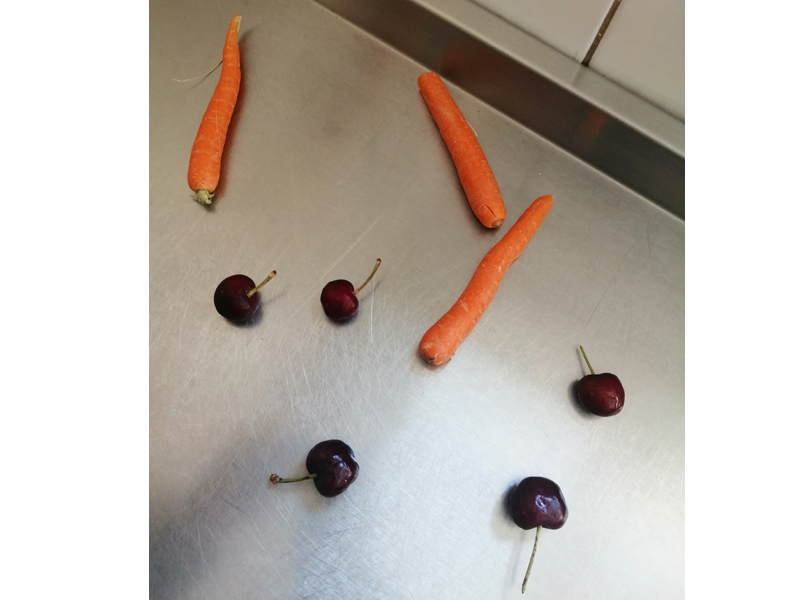carrot: (390, 62, 507, 229), (175, 6, 255, 216)
cherry: (492, 470, 574, 593), (555, 325, 637, 427), (257, 430, 363, 505), (318, 251, 387, 325), (211, 268, 285, 326)
